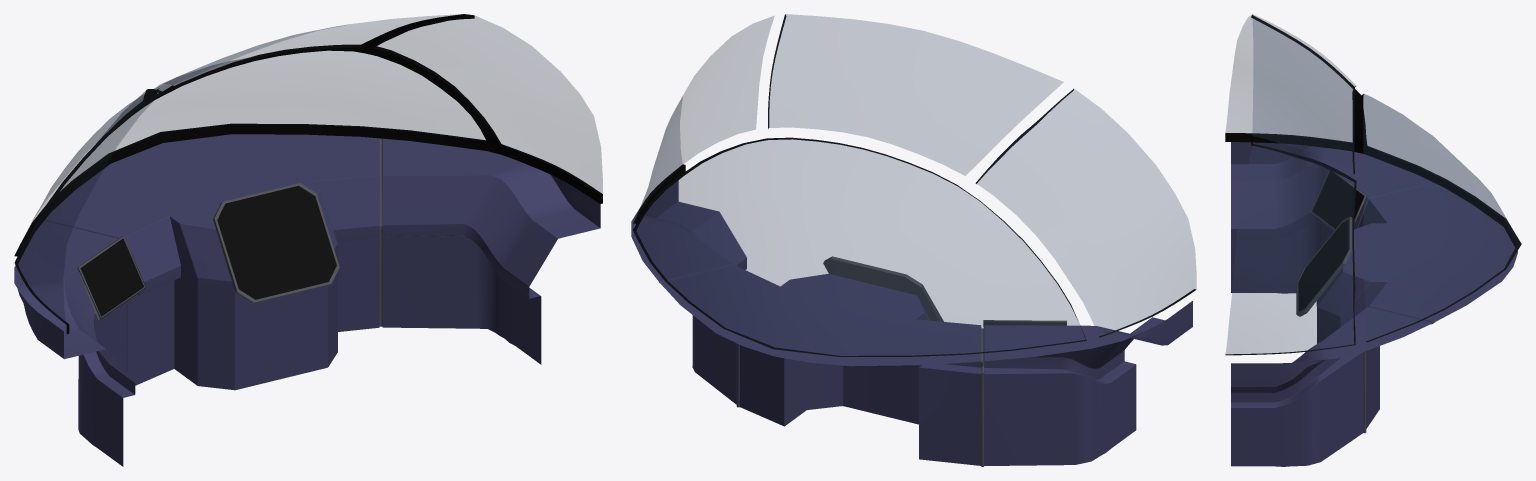
Rendered from David_Cockpit_Main.fbx.
3 views of the same model, side by side, from view 1: azimuth 30°, elevation 25°; view 2: azimuth 150°, elevation 25°; view 3: azimuth 270°, elevation 25° (orthographic). The views are drawn at different scales.
Parts seen in each view (by area): view 1: Cockpit_Main2; view 2: Cockpit_Main2; view 3: Cockpit_Main2.
Boxes of the visible parts, <box> form: Cockpit_Main2: <box>14,14,602,466</box>; Cockpit_Main2: <box>631,14,1196,466</box>; Cockpit_Main2: <box>1225,14,1521,466</box>.
Size of the model in its own units: 2.13 by 1.43 by 1.2.
